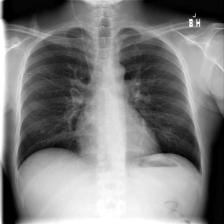normal: (12, 22, 208, 177)
